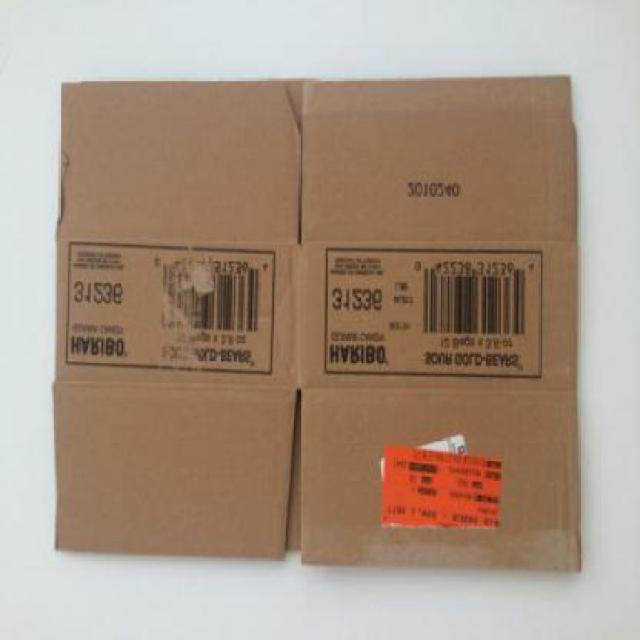CARDBOARD: (52, 77, 582, 577)
